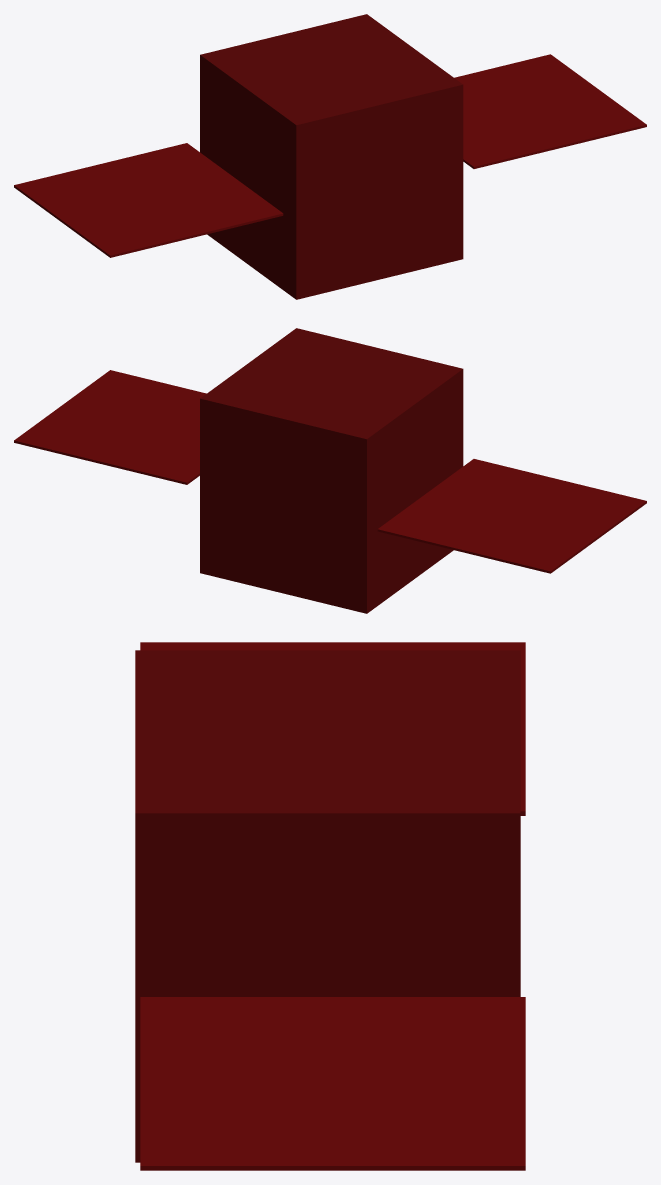
File: matlib_box_wing.obj
The picture shows the model from 3 angles, top to bottom: view 1: azimuth 30°, elevation 25°; view 2: azimuth 150°, elevation 25°; view 3: azimuth 270°, elevation 25°; orthographic projection. The views are drawn at different scales.
Parts seen in each view (by area): view 1: mesh1; view 2: mesh1; view 3: mesh1.
Part boxes in pixels (x1,y1,x2,y2): mesh1: (14,14,646,299); mesh1: (14,328,646,613); mesh1: (135,642,525,1170).
Size of the model in its own units: 3.22 by 1 by 1.01.
